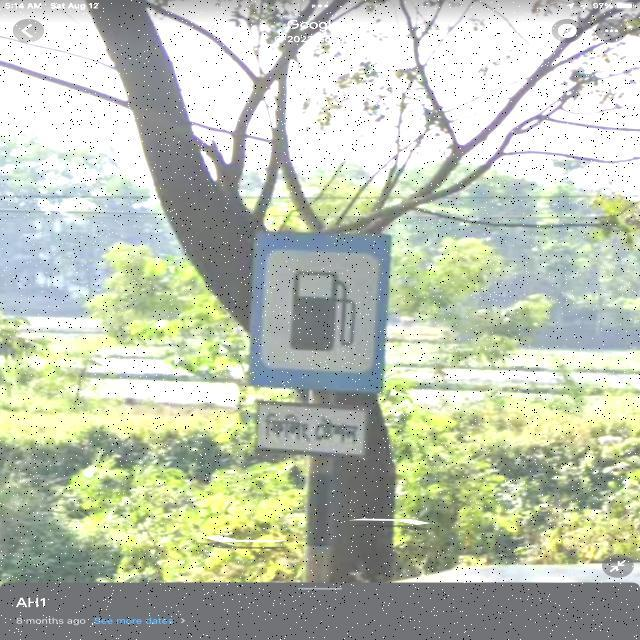Petrol-Station-in-front: (247, 219, 398, 478)
